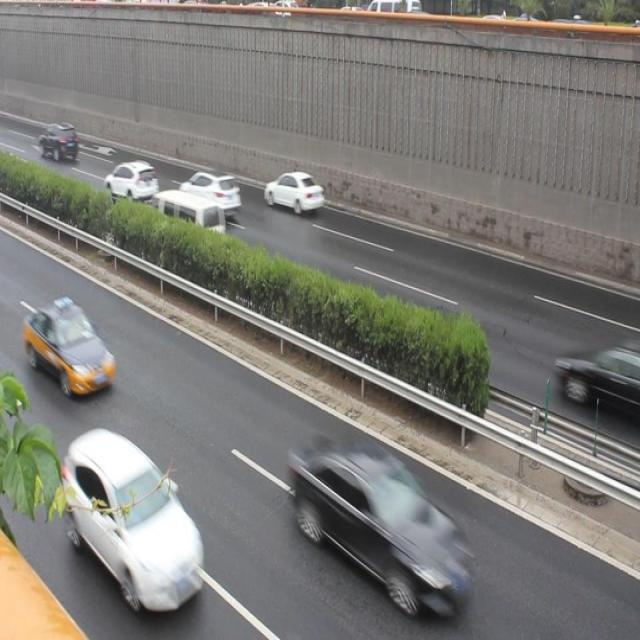car: (288, 440, 471, 604), (63, 432, 206, 598), (22, 296, 118, 393), (555, 335, 640, 424), (182, 166, 244, 220), (262, 167, 322, 218), (102, 158, 158, 208), (38, 119, 79, 165)
truck: (152, 186, 224, 245)
